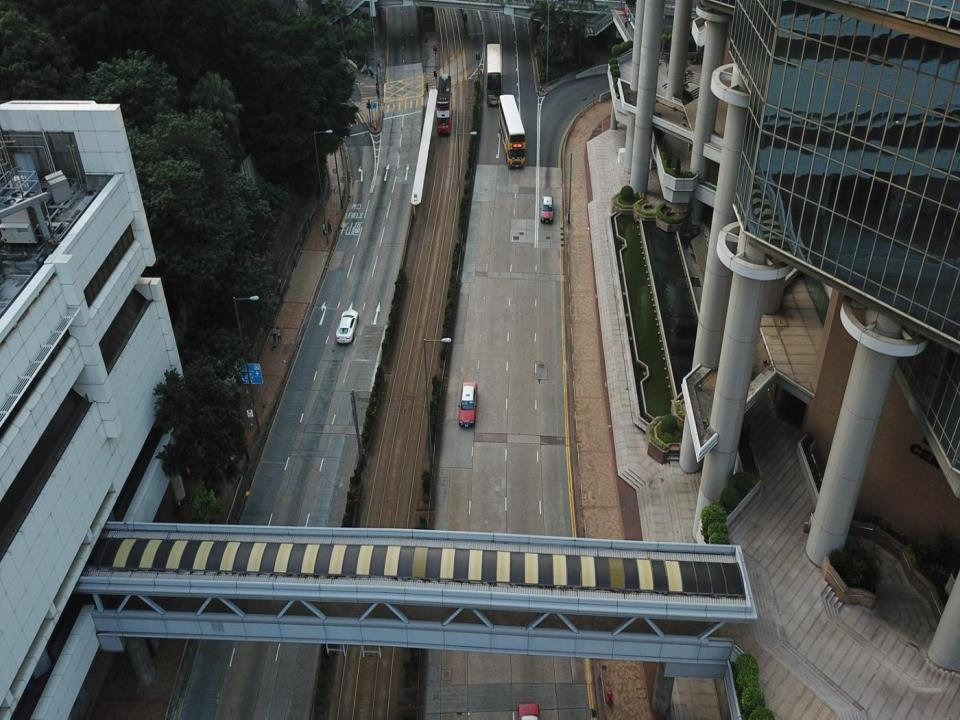bus: (496, 92, 526, 171), (436, 73, 453, 136), (486, 42, 501, 108)
car: (459, 381, 477, 428), (336, 310, 359, 344), (540, 195, 554, 223)
